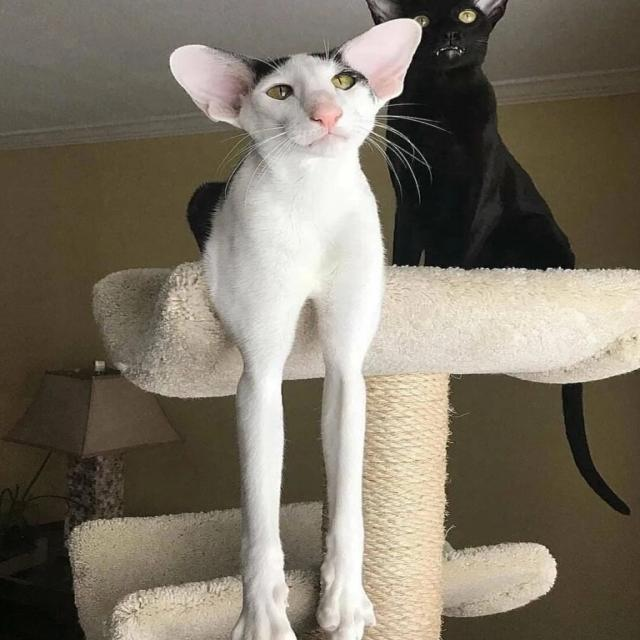Oriental: (170, 17, 425, 640), (358, 0, 577, 269)
